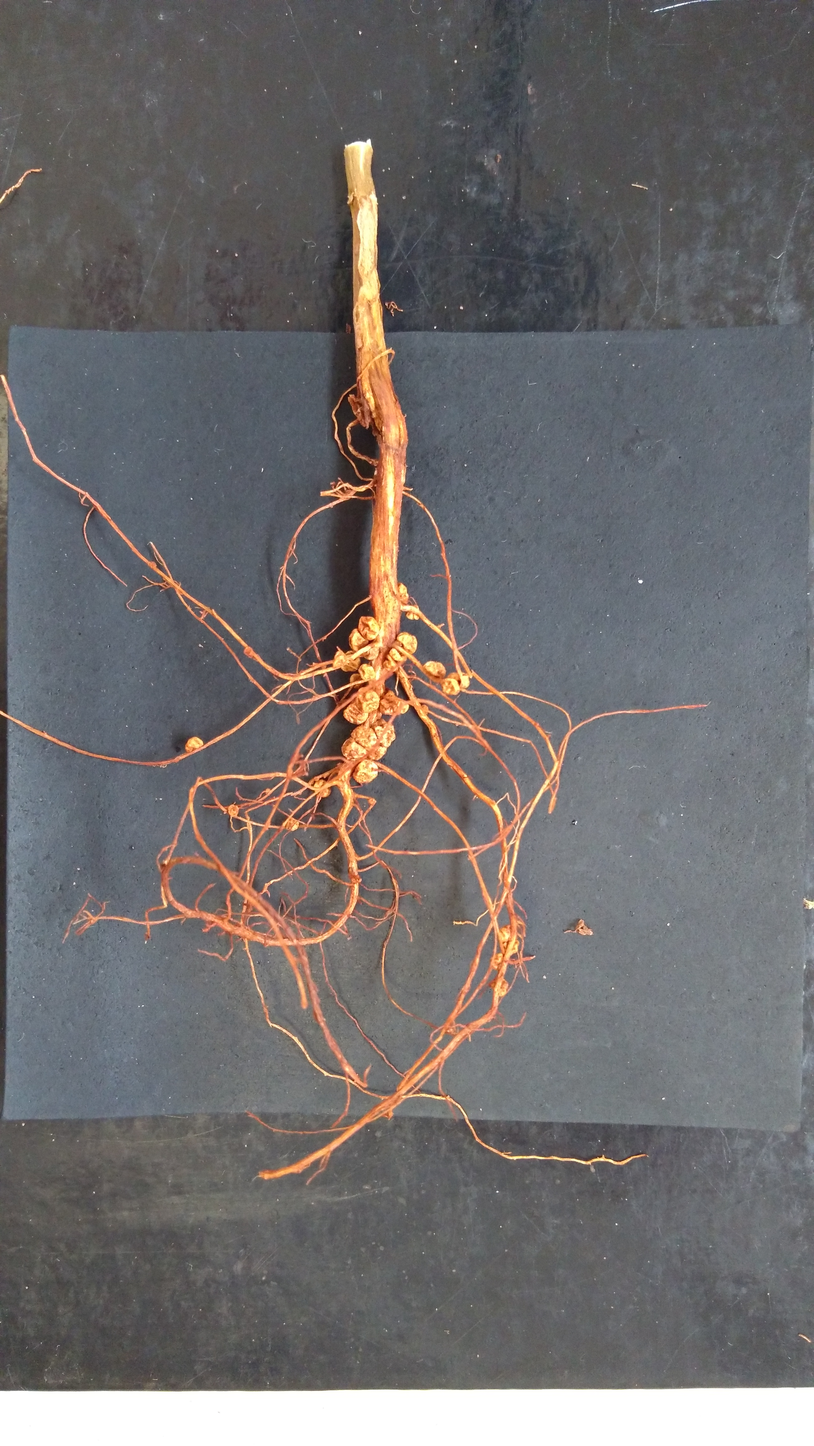nodule: (379, 689, 411, 716), (354, 686, 382, 713), (372, 718, 396, 748), (339, 737, 369, 761), (498, 923, 521, 954), (350, 725, 380, 748), (356, 614, 381, 641), (351, 759, 379, 783), (341, 703, 370, 724), (348, 627, 370, 652), (396, 631, 418, 655), (338, 650, 362, 672), (446, 670, 471, 691), (421, 660, 446, 679), (488, 977, 509, 997), (440, 677, 462, 696), (312, 779, 332, 798), (348, 672, 368, 690), (369, 745, 388, 763), (356, 663, 376, 680), (184, 736, 204, 753), (361, 646, 382, 661), (332, 649, 347, 669), (381, 654, 398, 671), (283, 818, 300, 832), (406, 603, 420, 620), (396, 581, 409, 599), (490, 952, 503, 970), (389, 647, 404, 662), (227, 804, 240, 818), (421, 704, 428, 714)
